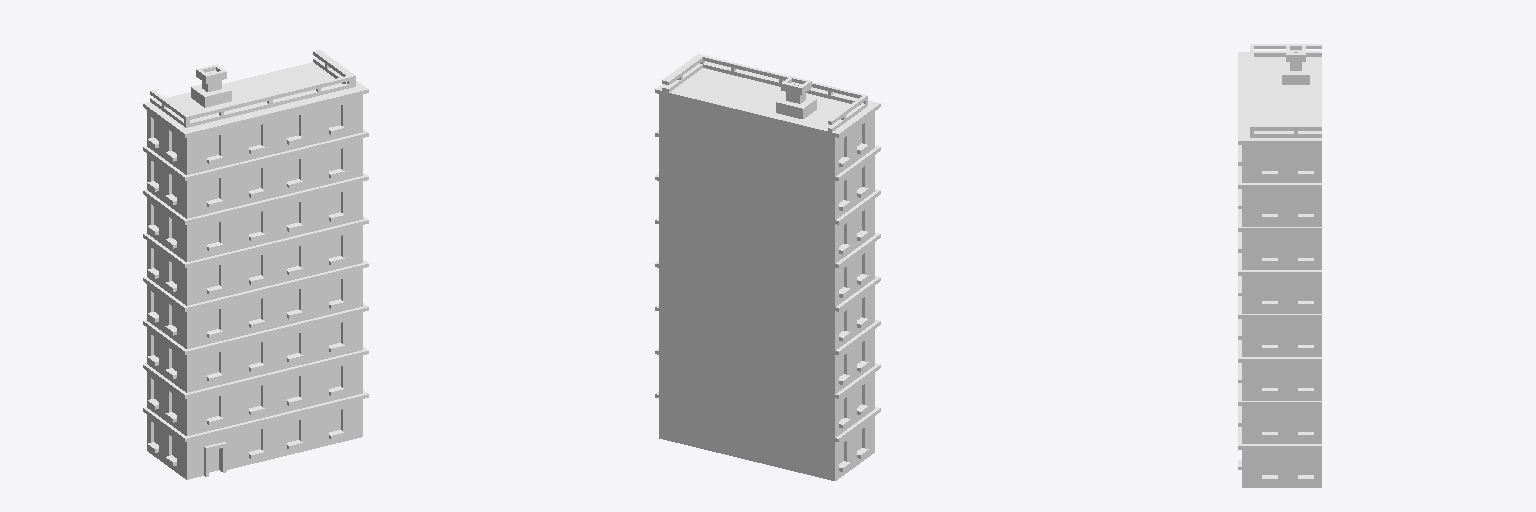
Rendered from MelochevkaCity-4.obj.
The picture shows the model from 3 angles: view 1: azimuth 30°, elevation 25°; view 2: azimuth 150°, elevation 25°; view 3: azimuth 270°, elevation 25°; orthographic projection.
Visible parts, largest first — view 1: object 1; view 2: object 1; view 3: object 1.
Boxes of the visible parts, <box> form: object 1: <box>143,50,368,479</box>; object 1: <box>655,54,880,480</box>; object 1: <box>1238,44,1321,487</box>.
Size of the model in its own units: 5.3 by 10.4 by 2.1.